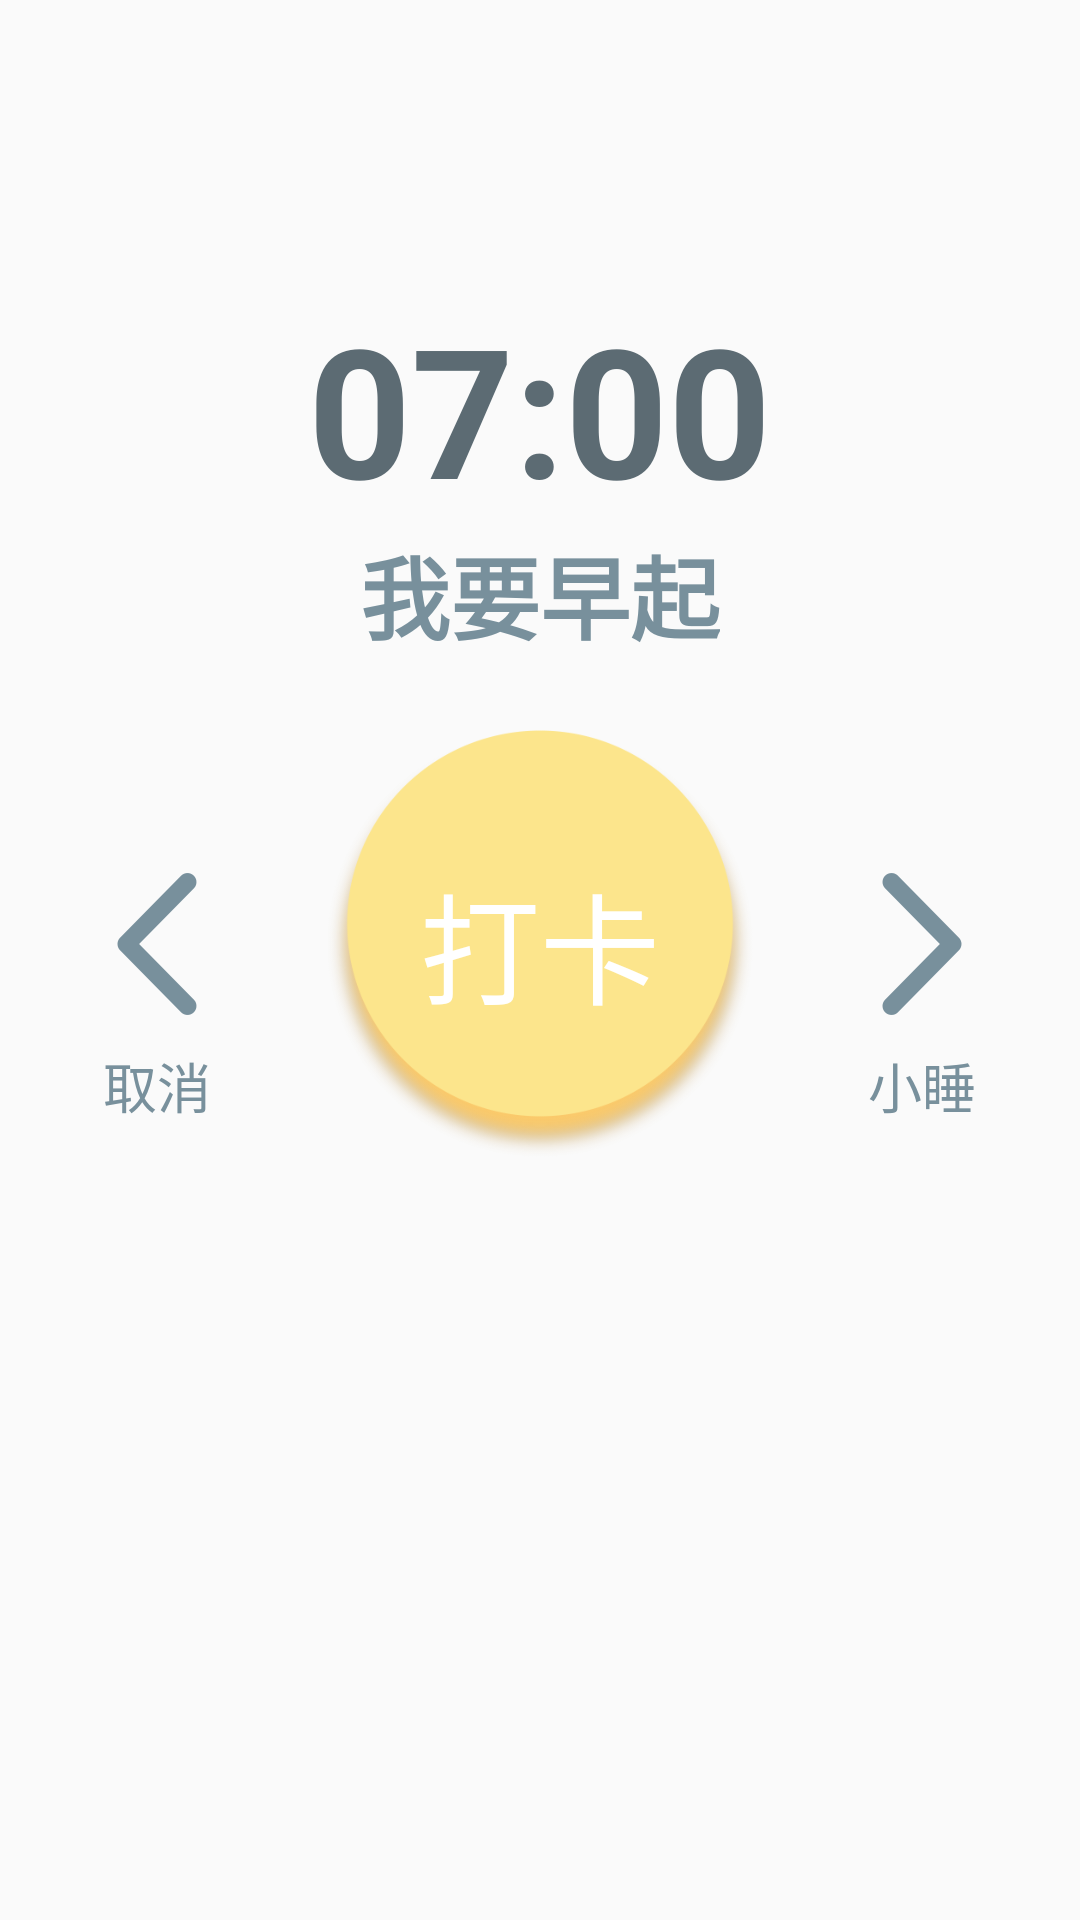

Named icons in this screenshot (1080w x 1920h) and their centers, (x,y):
left: (157,944)
right: (922,944)
